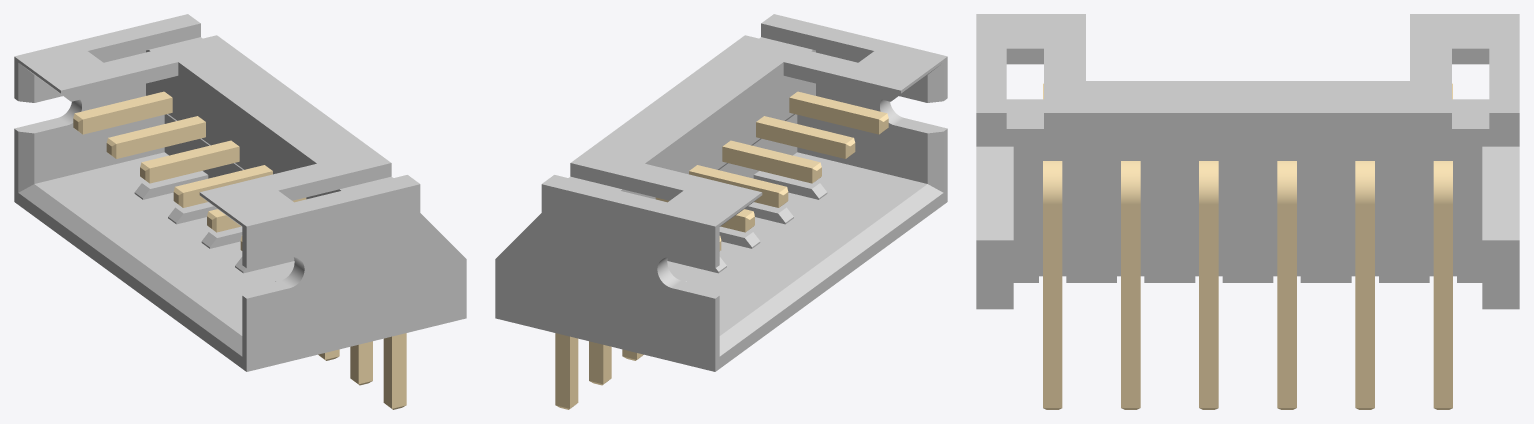
Rendered from JST_S6B_PH_K_S.gltf.
3 views of the same model, side by side, from view 1: azimuth 30°, elevation 25°; view 2: azimuth 150°, elevation 25°; view 3: azimuth 270°, elevation 25° (orthographic). The views are drawn at different scales.
Parts seen in each view (by area): view 1: mesh765, mesh796, mesh821, mesh787, mesh776, mesh827, mesh775, mesh774, mesh783, mesh792, mesh798, mesh854 (+16 smaller); view 2: mesh780, mesh796, mesh821, mesh786, mesh776, mesh827, mesh775, mesh774, mesh773, mesh797, mesh793, mesh856 (+16 smaller); view 3: mesh789, mesh796, mesh716, mesh728, mesh740, mesh752, mesh674, mesh764, mesh700, mesh704, mesh701, mesh703 (+16 smaller).
Part boxes in pixels (x1,y1,x2,y2): mesh765: (246, 184, 466, 371); mesh796: (14, 14, 419, 226); mesh821: (35, 152, 294, 335); mesh787: (34, 50, 164, 183); mesh776: (18, 184, 242, 356); mesh827: (146, 50, 340, 199); mesh775: (14, 129, 246, 371); mesh774: (178, 62, 316, 166); mesh783: (61, 62, 178, 101); mesh792: (278, 163, 391, 200); mesh798: (88, 23, 200, 61); mesh854: (149, 146, 239, 183); mesh780: (495, 184, 715, 371); mesh796: (542, 14, 947, 226); mesh821: (667, 152, 926, 335); mesh786: (797, 50, 927, 183); mesh776: (719, 184, 943, 356); mesh827: (621, 50, 815, 199); mesh775: (715, 129, 947, 371); mesh774: (645, 62, 783, 166); mesh773: (783, 62, 900, 101); mesh797: (570, 163, 683, 200); mesh793: (761, 23, 873, 61); mesh856: (722, 146, 812, 183); mesh789: (976, 113, 1519, 282); mesh796: (976, 14, 1519, 112); mesh716: (1121, 204, 1140, 407); mesh728: (1199, 204, 1218, 407); mesh740: (1277, 204, 1296, 407); mesh752: (1355, 204, 1374, 407); mesh674: (1043, 204, 1062, 407); mesh764: (1433, 204, 1452, 407); mesh700: (1482, 146, 1519, 240); mesh704: (976, 146, 1013, 240); mesh701: (1482, 240, 1519, 309); mesh703: (976, 240, 1013, 309).
Size of the model in its own units: 0.0076 by 0.0082 by 0.0139.
